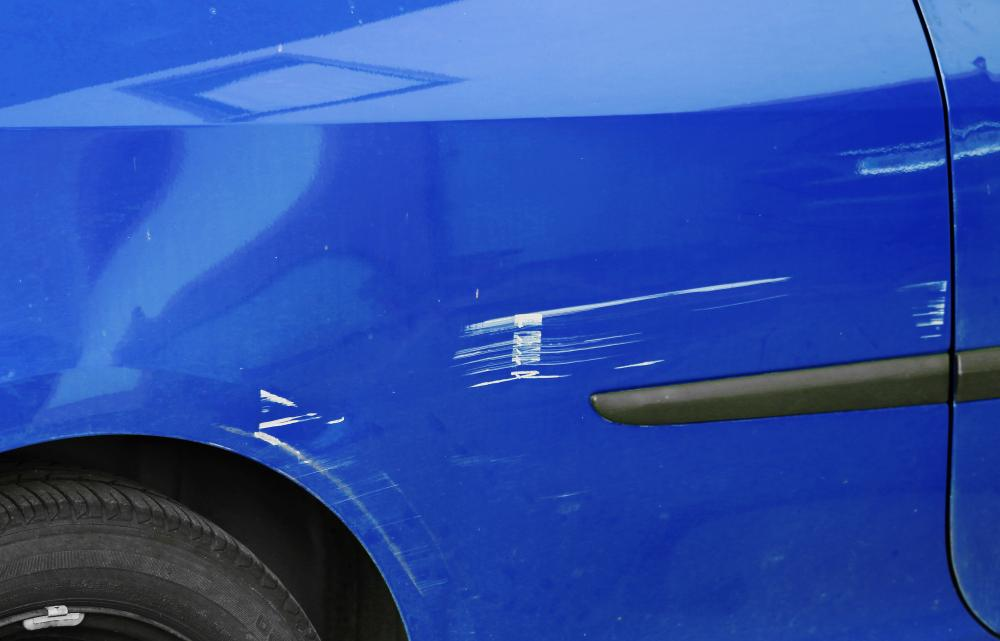scratch: (211, 387, 458, 597), (448, 274, 792, 391), (901, 276, 948, 349)
